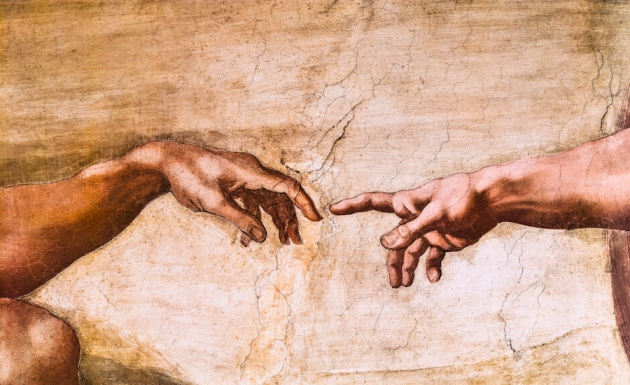finger: (257, 169, 323, 222), (329, 186, 399, 218), (268, 194, 304, 244), (383, 225, 411, 289), (407, 233, 429, 287), (262, 204, 288, 243), (428, 244, 445, 285)
